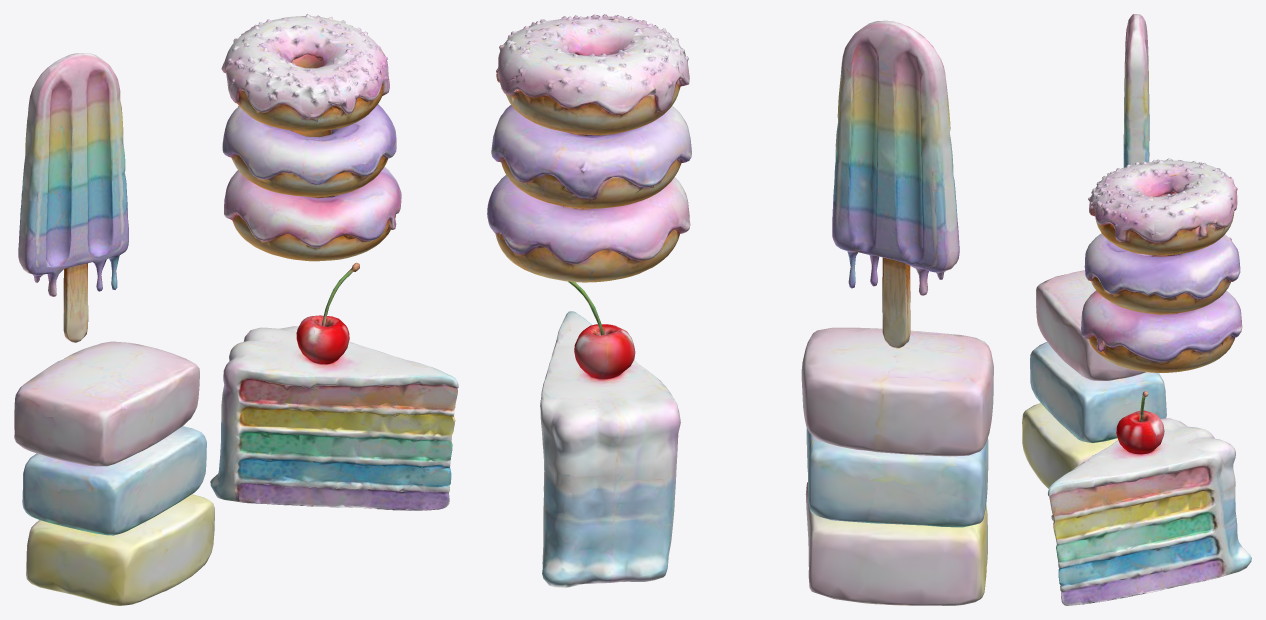
3 renders of one model, left to right at view 1: azimuth 30°, elevation 25°; view 2: azimuth 150°, elevation 25°; view 3: azimuth 270°, elevation 25°, orthographic. The views are drawn at different scales.
Parts seen in each view (by area): view 1: Mesh 1, Mesh 3, Mesh 2, Mesh 10, Mesh 4, Mesh 5, Mesh 6; view 2: Mesh 1, Mesh 3, Mesh 2, Mesh 10, Mesh 4, Mesh 6, Mesh 5; view 3: Mesh 3, Mesh 1, Mesh 10, Mesh 4, Mesh 6, Mesh 5, Mesh 2.
Part boxes in pixels (box(x1,y1,x2,y2)): Mesh 1: box(14, 341, 214, 605); Mesh 3: box(210, 262, 458, 510); Mesh 2: box(18, 53, 128, 342); Mesh 10: box(222, 15, 401, 261); Mesh 4: box(221, 14, 389, 131); Mesh 5: box(222, 104, 396, 196); Mesh 6: box(224, 166, 401, 261); Mesh 1: box(801, 327, 993, 605); Mesh 3: box(540, 281, 680, 587); Mesh 2: box(832, 20, 959, 348); Mesh 10: box(487, 14, 690, 280); Mesh 4: box(496, 14, 689, 135); Mesh 6: box(487, 175, 689, 282); Mesh 5: box(491, 105, 691, 208); Mesh 3: box(1047, 391, 1251, 605); Mesh 1: box(1022, 270, 1166, 488); Mesh 10: box(1081, 159, 1242, 371); Mesh 4: box(1088, 158, 1237, 254); Mesh 6: box(1081, 290, 1242, 372); Mesh 5: box(1084, 233, 1240, 314); Mesh 2: box(1123, 14, 1149, 167).
Size of the model in its own units: 1.59 by 1.9 by 0.8851.
Materials: 7 (7 with a texture image).
